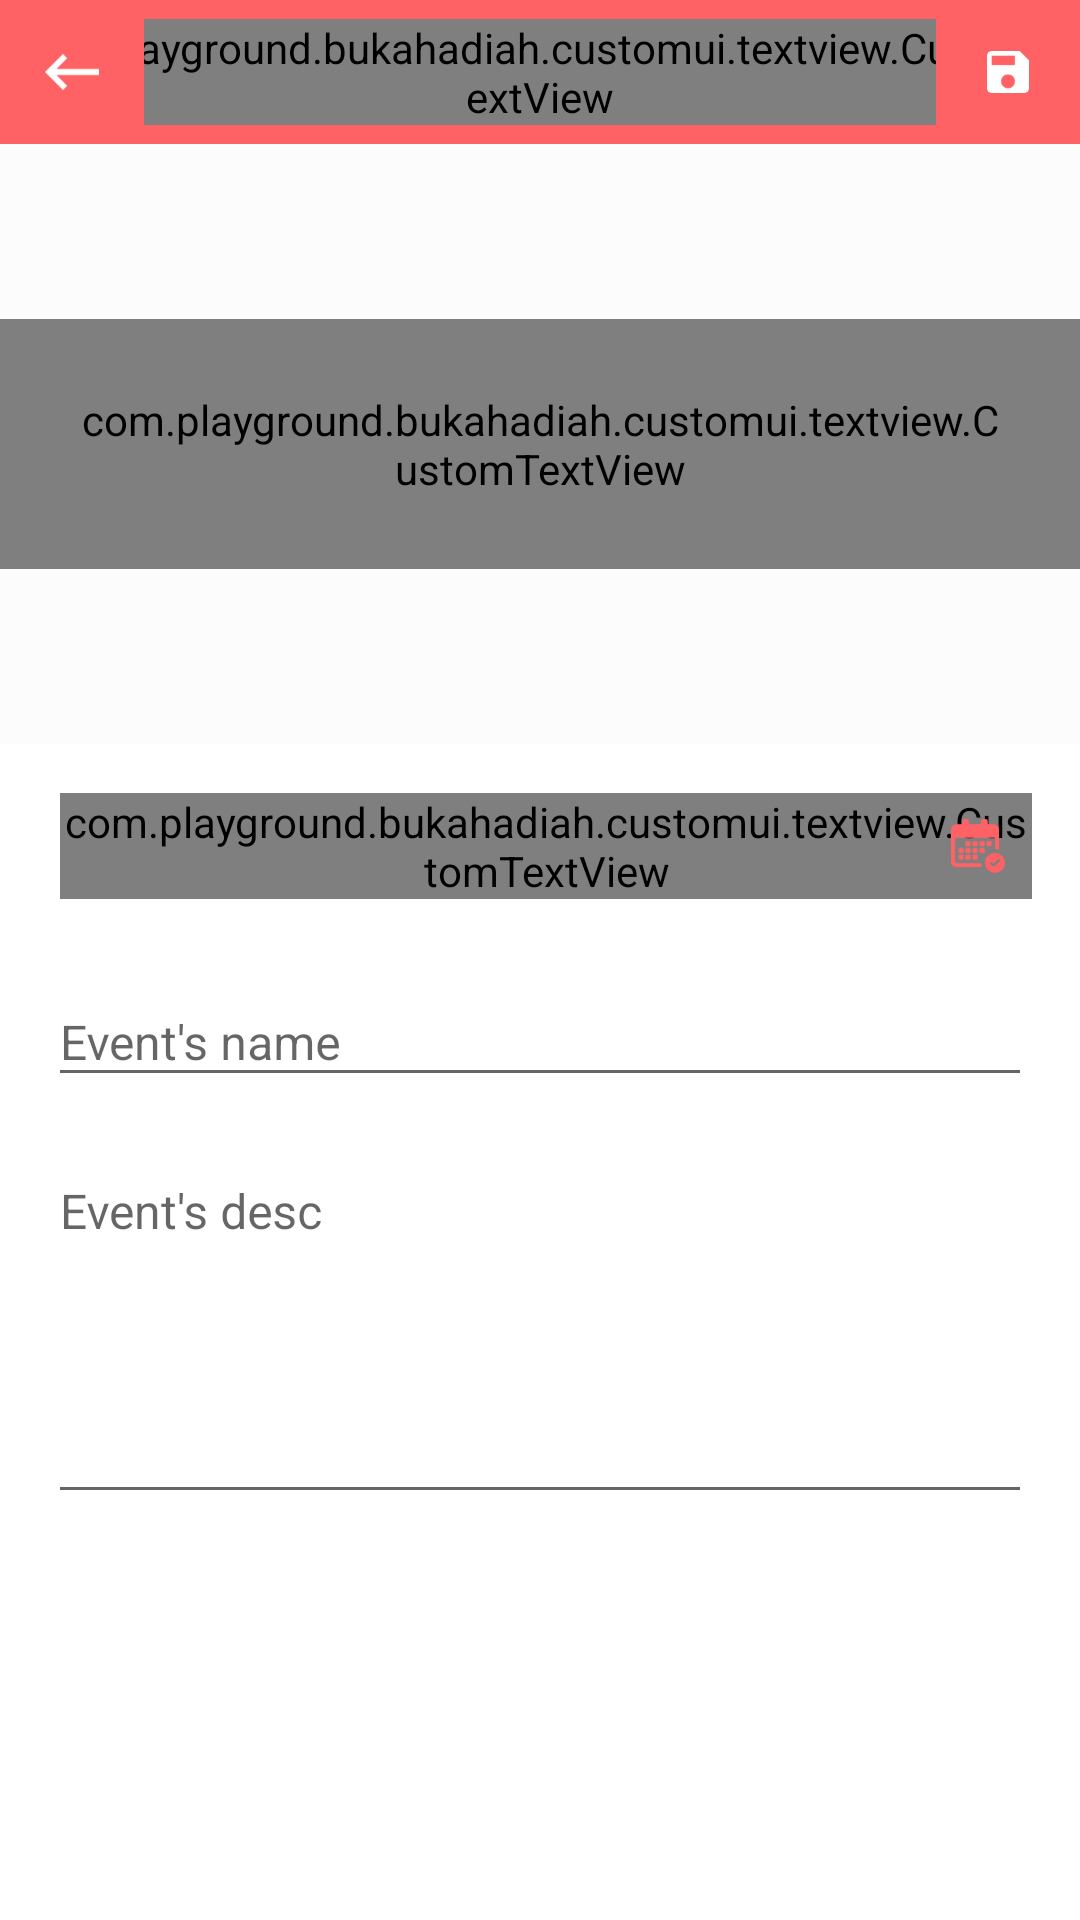

Where to tap for icons on this 1080 x 1920 app screen, as [x,y]:
back: [72,72]
calendar: [978,846]
save: [1008,72]
